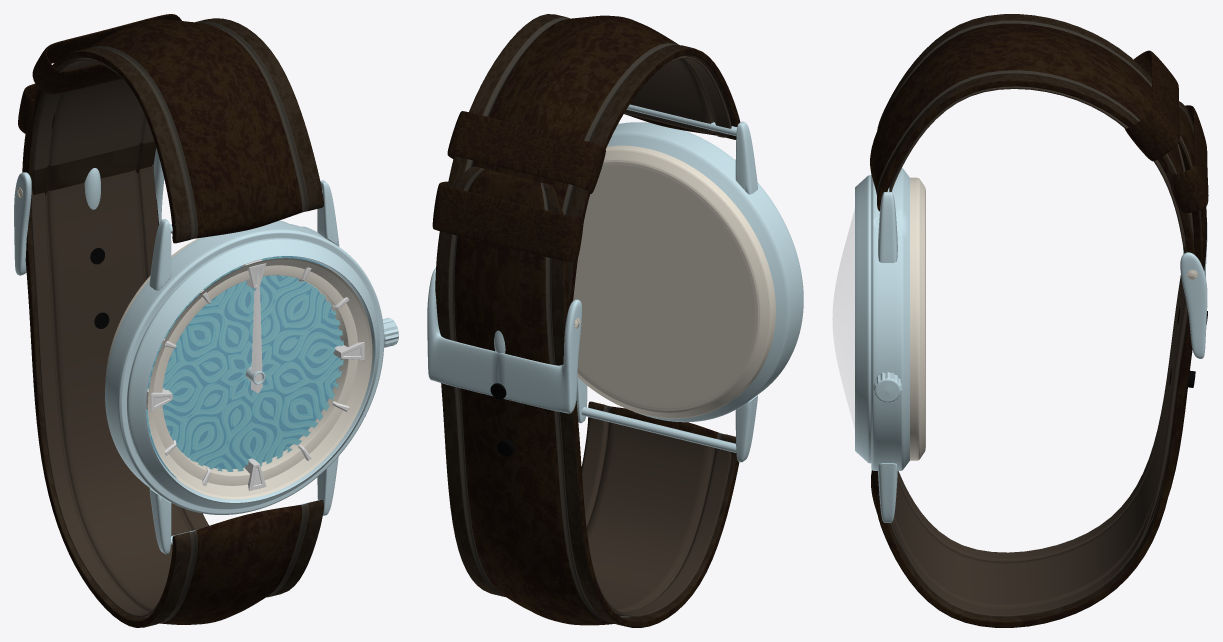
File: watch-06-d.glb
3 renders of one model, left to right at view 1: azimuth 30°, elevation 25°; view 2: azimuth 150°, elevation 25°; view 3: azimuth 270°, elevation 25°, orthographic. The views are drawn at different scales.
Parts seen in each view (by area): view 1: BandInside.002, Band.001, Housing, Band.002, FaceAlpha, Rim Inside, BandInside, FaceBack, FaceAlpha2, Housing.001, Plane.010, Plane.008 (+5 smaller); view 2: Band.002, Housing.002, BandInside.002, Band.001, Housing, Plane.008, Plane.010, Plane.009, BandInside, Housing.001, Cylinder.003, Cylinder.002; view 3: Band.001, BandInside.002, Housing, Band.002, Housing.002, Plane.010, Glass, Housing.001, Plane.009, Plane.008, BandInside, Circle.002.
Part boxes in pixels (<box>): BandInside.002: <box>31,163,208,617</box>; Band.001: <box>25,18,323,243</box>; Housing: <box>105,220,384,514</box>; Band.002: <box>22,90,323,627</box>; FaceAlpha: <box>146,257,343,471</box>; Rim Inside: <box>147,258,372,499</box>; BandInside: <box>32,57,156,195</box>; FaceBack: <box>147,256,340,477</box>; FaceAlpha2: <box>146,256,340,469</box>; Housing.001: <box>149,180,339,554</box>; Plane.010: <box>32,14,181,94</box>; Plane.008: <box>14,148,164,275</box>; Band.002: <box>435,166,739,627</box>; Housing.002: <box>573,145,775,418</box>; BandInside.002: <box>582,412,731,616</box>; Band.001: <box>448,14,740,307</box>; Housing: <box>607,122,803,422</box>; Plane.008: <box>427,268,582,413</box>; Plane.010: <box>447,111,605,193</box>; Plane.009: <box>432,181,583,261</box>; BandInside: <box>624,55,731,137</box>; Housing.001: <box>576,121,757,462</box>; Cylinder.003: <box>581,407,736,452</box>; Cylinder.002: <box>626,104,737,135</box>; Band.001: <box>870,14,1195,254</box>; BandInside.002: <box>891,143,1193,616</box>; Housing: <box>855,168,909,470</box>; Band.002: <box>871,101,1206,627</box>; Housing.002: <box>910,177,925,460</box>; Plane.010: <box>1124,50,1179,161</box>; Glass: <box>832,210,854,427</box>; Housing.001: <box>878,192,897,522</box>; Plane.009: <box>1170,105,1208,213</box>; Plane.008: <box>1180,222,1207,358</box>; BandInside: <box>889,86,1187,253</box>; Circle.002: <box>873,372,901,402</box>.
Size of the model in its own units: 2.51 by 4.9 by 2.92.
Materials: 14 (4 with a texture image).
